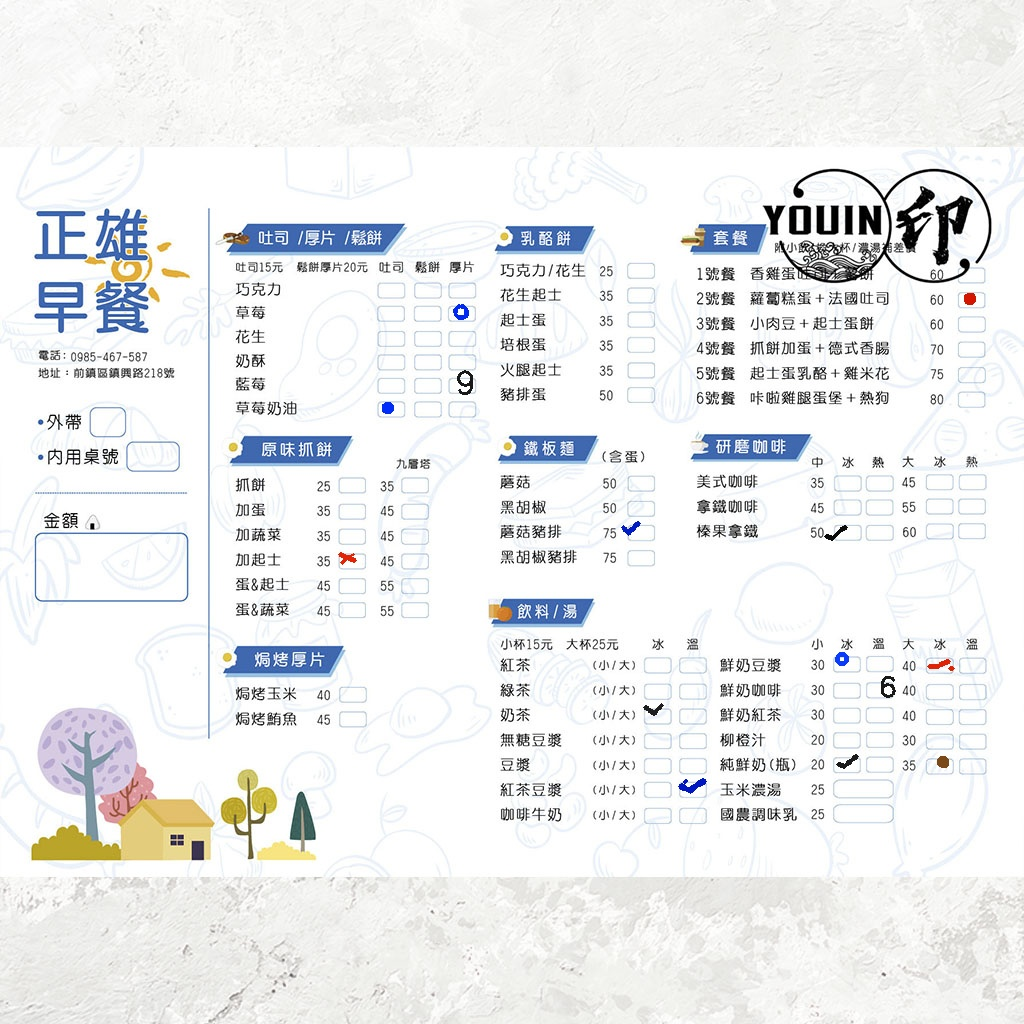marked_circle: (925, 759, 951, 773), (958, 293, 984, 307), (377, 401, 403, 415)
marked_hollow: (834, 657, 860, 671), (448, 305, 474, 319)
marked_number_6: (869, 682, 895, 696)
marked_number_9: (448, 378, 474, 392)
marked_tick: (679, 780, 705, 794), (832, 755, 858, 769), (926, 657, 952, 671), (834, 524, 860, 538), (625, 526, 651, 540), (644, 707, 670, 721)
marked_x: (337, 554, 363, 568)
